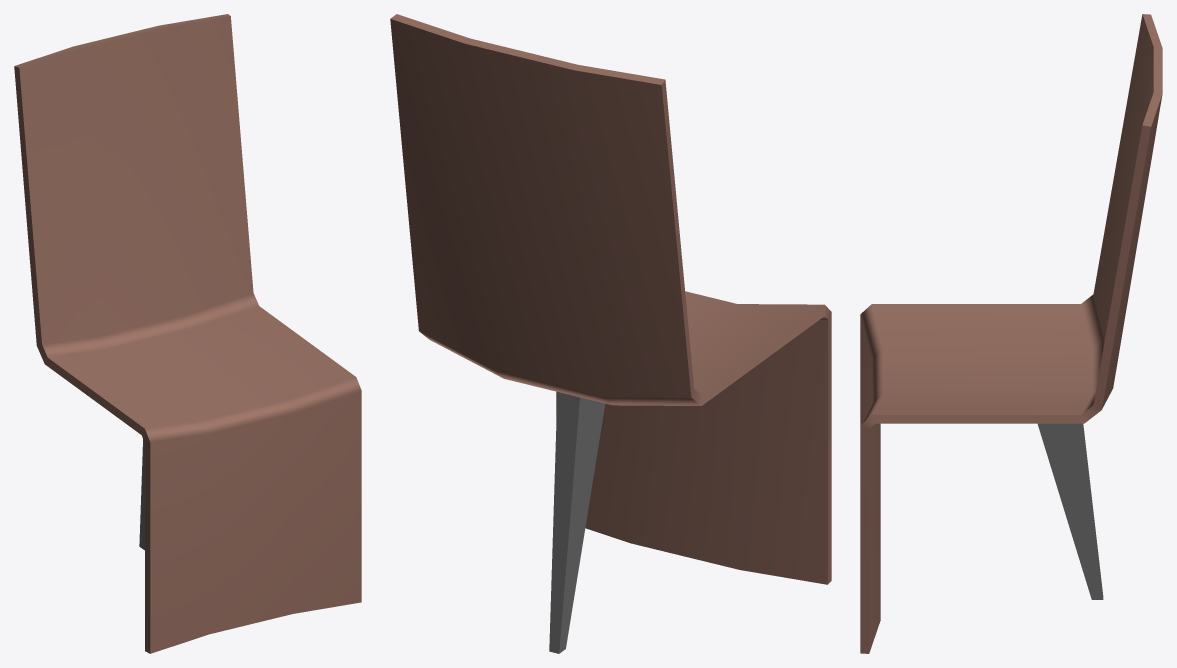
The model's file is kitchen_chair_019.glb.
3 renders of one model, left to right at view 1: azimuth 30°, elevation 25°; view 2: azimuth 150°, elevation 25°; view 3: azimuth 270°, elevation 25°, orthographic. The views are drawn at different scales.
Visible parts, largest first — view 1: kitchen_chair_019; view 2: kitchen_chair_019; view 3: kitchen_chair_019.
Part boxes in pixels (box(x1,y1,x2,y2)): kitchen_chair_019: box(14, 14, 361, 653); kitchen_chair_019: box(390, 14, 831, 653); kitchen_chair_019: box(860, 14, 1162, 653).
Bounding box in the file's own units: 0.5565 × 1.21 × 0.6301.
1 material, 1 textured.
